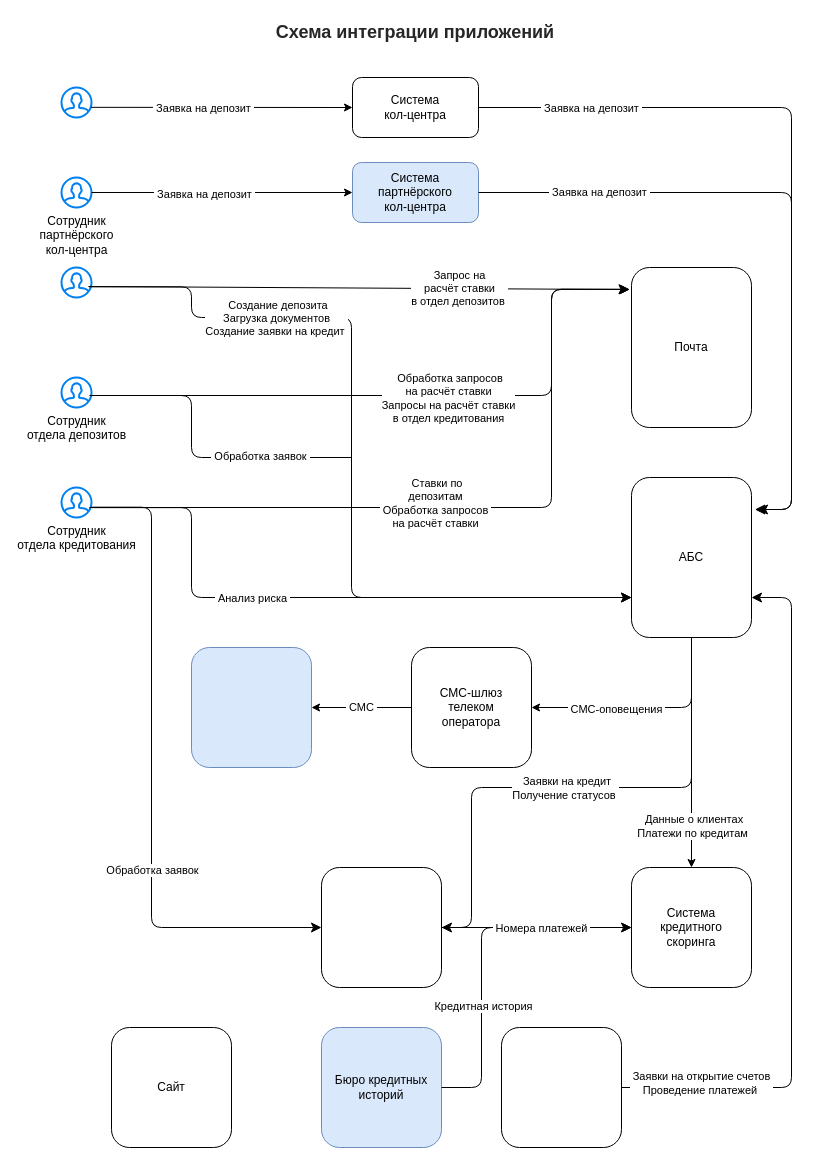
Some shapes in this 819 by 1165 pixel diagram are drawn without their labels. Each missing label, with the centre of its shape:
"Интернет-банк" goes at [561,1087].
"Кредитный конвейер" goes at [381,927].
"Сотрудник кол-центра" goes at [76,102].
"Сотрудник отделения" goes at [76,282].
"Телеком оператор" goes at [251,707].
